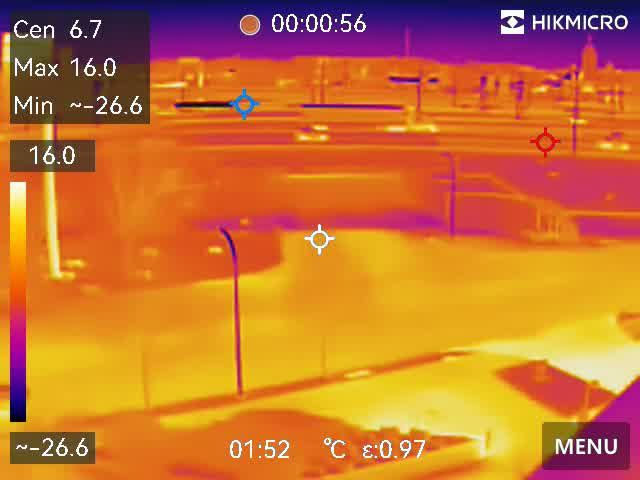heavyTruck: (297, 103, 444, 136)
vehicle: (295, 129, 333, 148), (597, 135, 633, 153)
